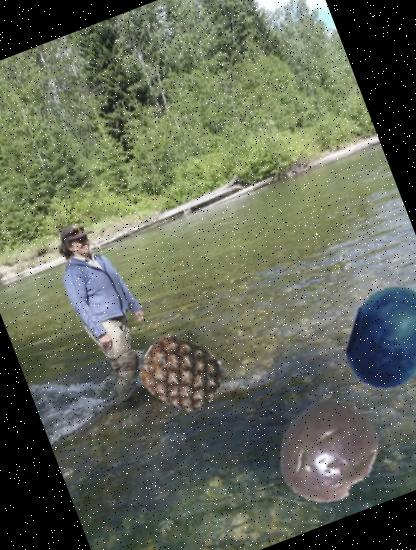Huckleberry: (324, 269, 416, 407)
Passion: (258, 383, 398, 523)
Pineapple: (129, 322, 232, 425)
